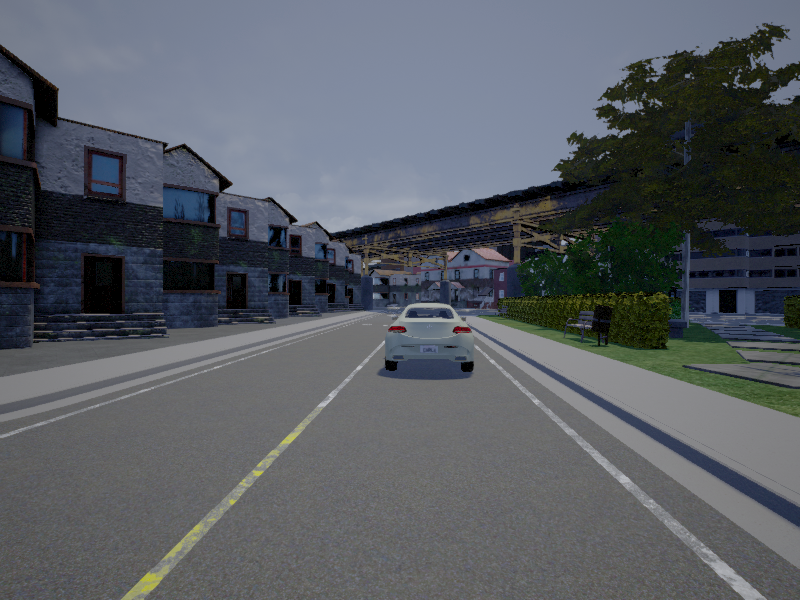Benign: (388, 304, 475, 372)
